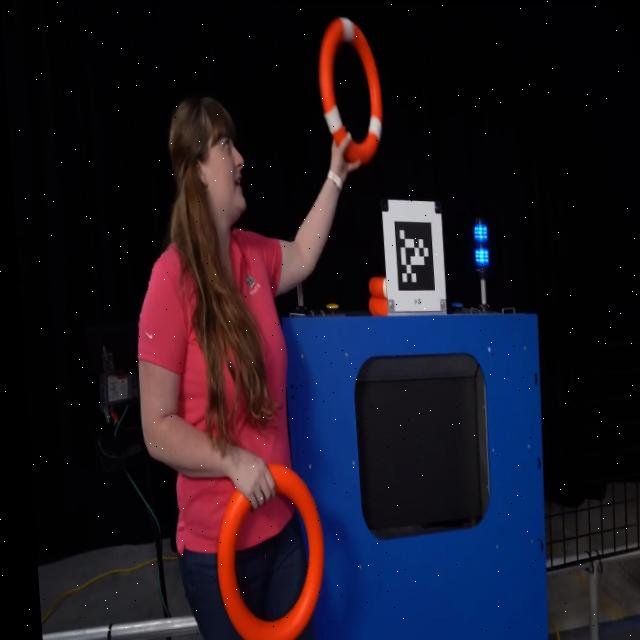note: (203, 465, 322, 640), (315, 17, 384, 166), (364, 278, 383, 298), (364, 298, 384, 315)
